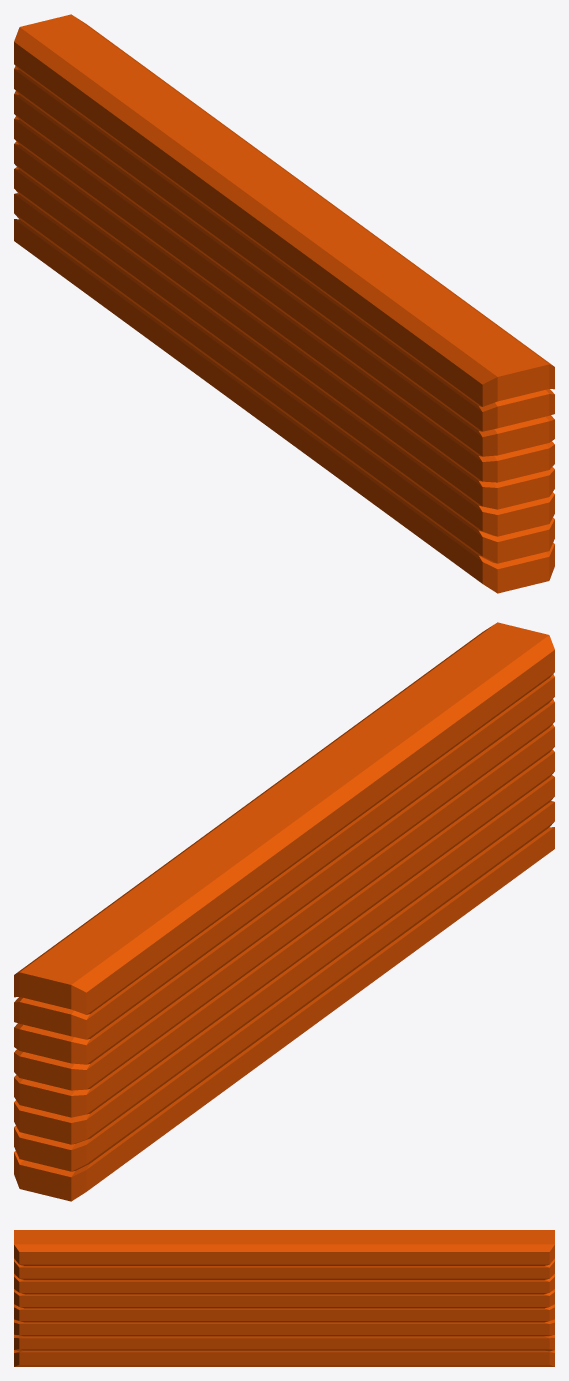
File: HUD.fbx
The picture shows the model from 3 angles, top to bottom: view 1: azimuth 30°, elevation 25°; view 2: azimuth 150°, elevation 25°; view 3: azimuth 270°, elevation 25°; orthographic projection. The views are drawn at different scales.
Parts seen in each view (by area): view 1: Cube; view 2: Cube; view 3: Cube.
Part boxes in pixels (x1,y1,x2,y2): Cube: [14, 14, 554, 593]; Cube: [14, 622, 554, 1201]; Cube: [14, 1230, 554, 1366].
Size of the model in its own units: 280 by 800 by 3200.
